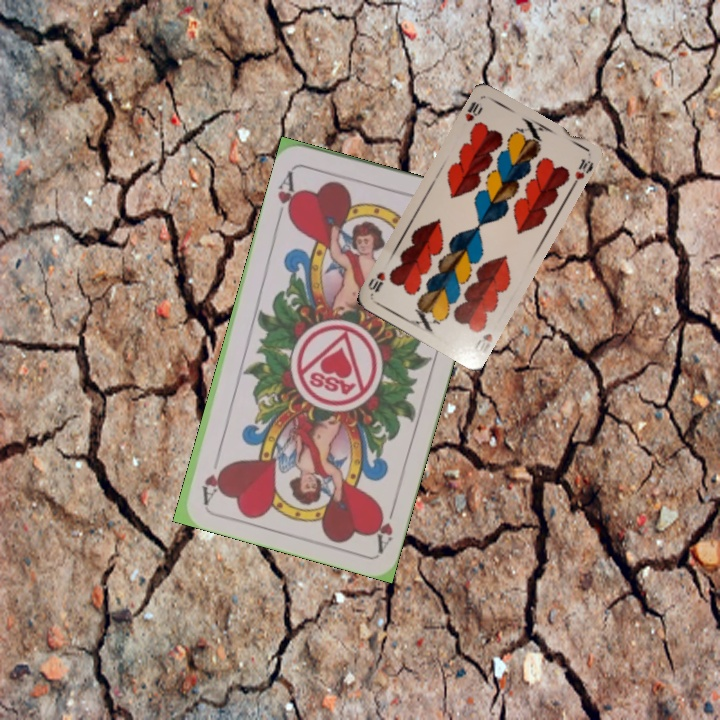H10: (470, 329, 495, 358), (461, 97, 485, 124)
HA: (369, 495, 400, 554), (273, 165, 301, 224)
